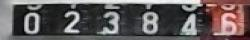digits: (94, 11, 120, 34), (177, 12, 197, 34), (218, 12, 237, 34), (62, 10, 80, 32), (141, 11, 157, 34), (23, 12, 39, 32)
